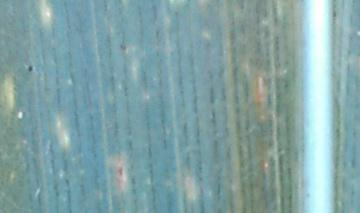tarspot: (27, 65, 34, 73)
